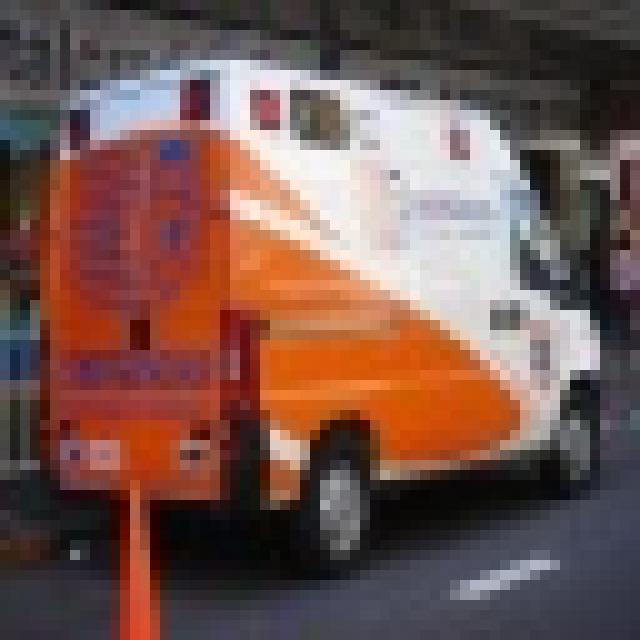Ambulance: (30, 50, 600, 570)
